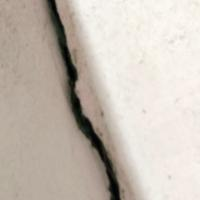crack: (50, 0, 122, 199)
